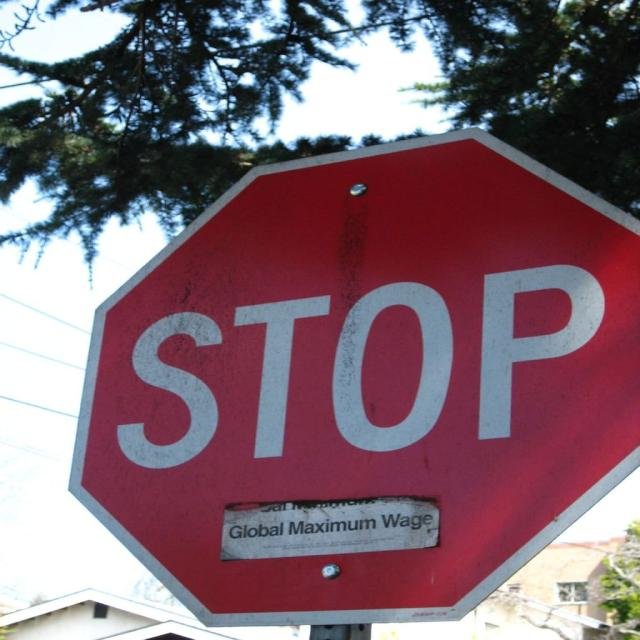Stop-sign: (63, 126, 639, 629)
